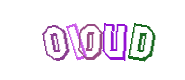0: (37, 0, 117, 80), (54, 0, 134, 80)
1: (51, 0, 131, 80)
D: (102, 0, 182, 80)
U: (75, 0, 155, 80)
